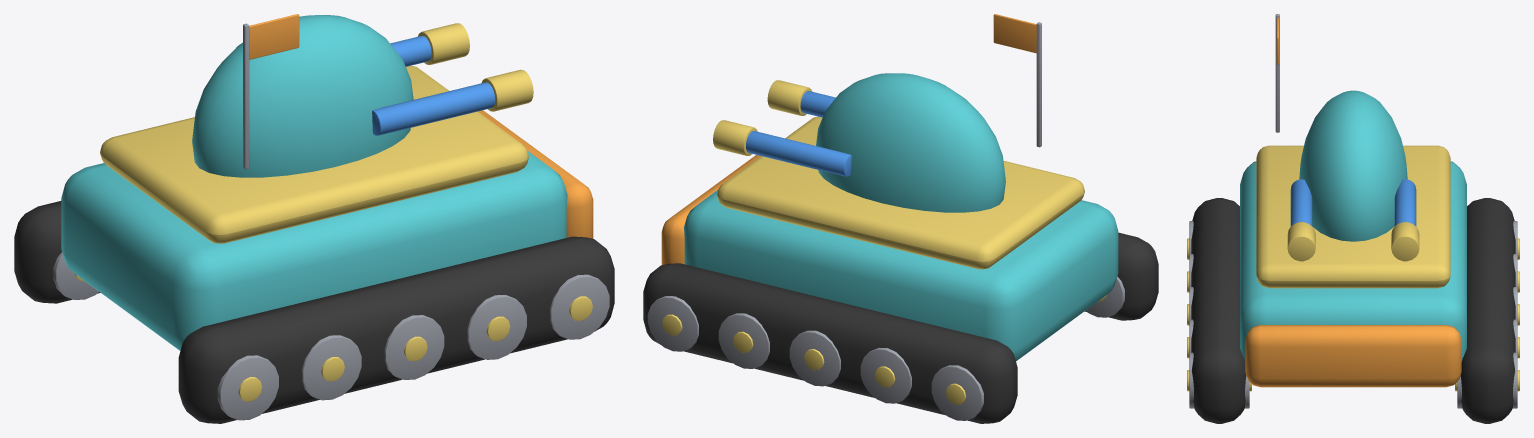
The model's file is tank.glb.
3 renders of one model, left to right at view 1: azimuth 30°, elevation 25°; view 2: azimuth 150°, elevation 25°; view 3: azimuth 270°, elevation 25°, orthographic. The views are drawn at different scales.
Parts seen in each view (by area): view 1: hull, track1, deck, turret, track-1, gun1, wheel10, wheel12, wheel14, wheel11, wheel13, bumper (+6 smaller); view 2: hull, track-1, turret, deck, track1, gun-1, wheel-10, wheel-11, wheel-13, wheel-14, wheel-12, bumper (+6 smaller); view 3: deck, bumper, hull, turret, track1, track-1, cage1, cage-1, gun1, gun-1, flagpole, wheel14 (+1 smaller).
Part boxes in pixels (box(x1,y1,x2,y2)): hull: box(61, 151, 567, 350); track1: box(178, 236, 614, 423); deck: box(100, 66, 528, 243); turret: box(192, 15, 413, 177); track-1: box(14, 201, 100, 303); gun1: box(372, 82, 495, 135); wheel10: box(217, 355, 278, 420); wheel12: box(384, 315, 444, 379); wheel14: box(550, 274, 609, 339); wheel11: box(302, 335, 361, 400); wheel13: box(467, 295, 526, 359); bumper: box(478, 110, 593, 238); hull: box(684, 190, 1118, 361); track-1: box(643, 263, 1017, 423); turret: box(816, 73, 1005, 212); deck: box(717, 116, 1084, 269); track1: box(1084, 232, 1158, 320); gun-1: box(746, 131, 851, 176); wheel-10: box(931, 365, 983, 420); wheel-11: box(860, 348, 911, 403); wheel-13: box(718, 313, 769, 368); wheel-14: box(647, 296, 698, 351); wheel-12: box(789, 330, 840, 386); bumper: box(661, 155, 760, 264); deck: box(1256, 145, 1450, 288); bumper: box(1245, 325, 1461, 387); hull: box(1240, 161, 1466, 361); turret: box(1299, 90, 1407, 241); track1: box(1191, 198, 1246, 423); track-1: box(1460, 198, 1515, 423); cage1: box(1287, 222, 1315, 261); cage-1: box(1391, 222, 1419, 261); gun1: box(1290, 179, 1312, 226); gun-1: box(1394, 179, 1416, 226); flagpole: box(1275, 14, 1279, 132); wheel14: box(1189, 352, 1249, 408).
Size of the model in its own units: 1.88 by 1.47 by 1.54.
